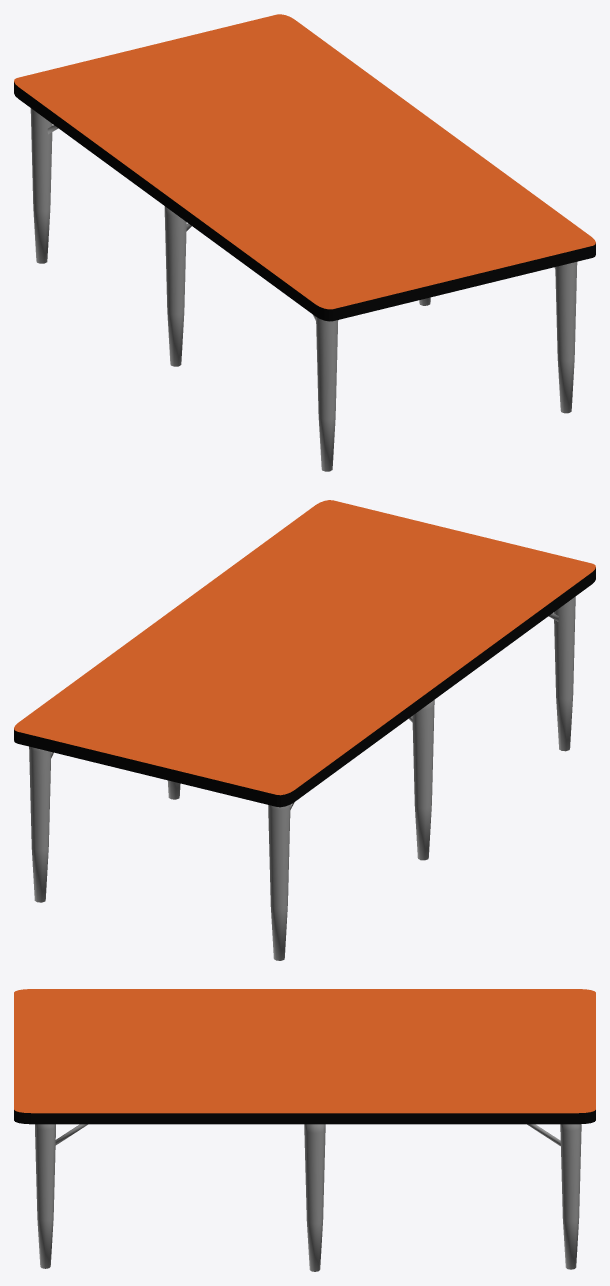
The model's file is beer pong table.fbx.
The picture shows the model from 3 angles, top to bottom: view 1: azimuth 30°, elevation 25°; view 2: azimuth 150°, elevation 25°; view 3: azimuth 270°, elevation 25°; orthographic projection. The views are drawn at different scales.
Parts seen in each view (by area): view 1: Cube, Cylinder, Cylinder.001, Cylinder.002; view 2: Cube, Cylinder.002, Cylinder.001, Cylinder; view 3: Cube, Cylinder.002, Cylinder, Cylinder.001.
Boxes of the visible parts, <box> form: Cube: <box>14,14,595,321</box>; Cylinder: <box>312,262,577,471</box>; Cylinder.001: <box>164,206,430,366</box>; Cylinder.002: <box>30,108,58,263</box>; Cube: <box>14,500,595,807</box>; Cylinder.002: <box>29,746,294,960</box>; Cylinder.001: <box>167,700,434,860</box>; Cylinder: <box>549,596,575,751</box>; Cube: <box>14,989,595,1124</box>; Cylinder.002: <box>527,1124,581,1269</box>; Cylinder: <box>35,1124,87,1268</box>; Cylinder.001: <box>304,1124,325,1271</box>.
Bounding box in the file's own units: 533 × 325 × 1056.
